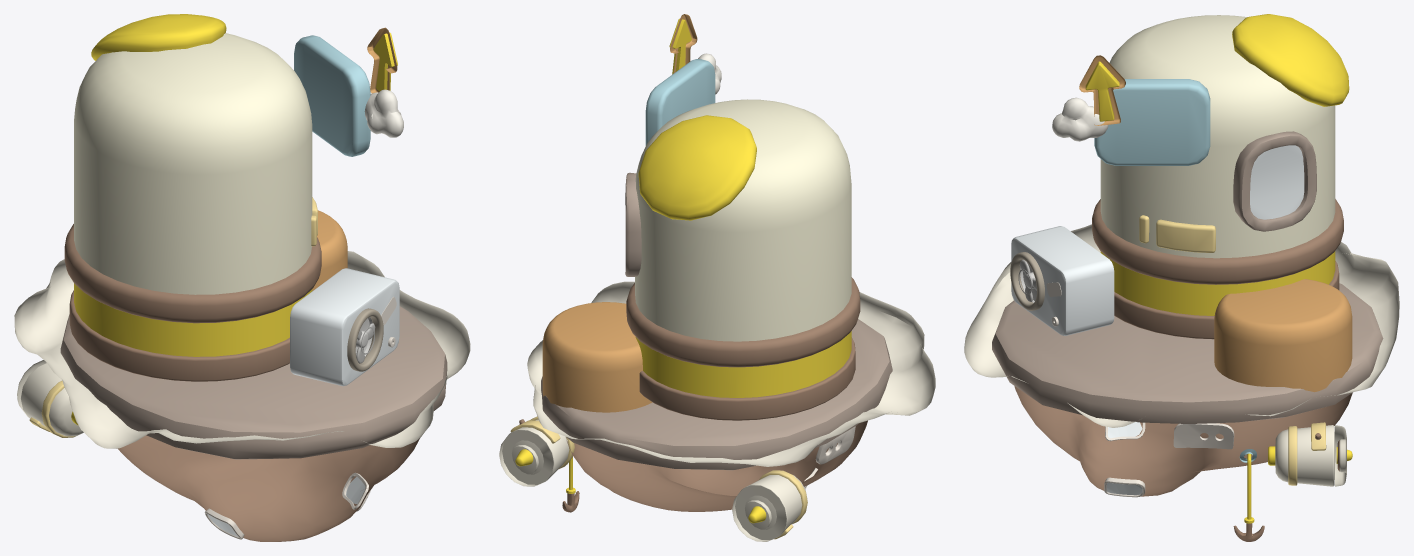
File: 1_lever_yellow1.gltf
3 renders of one model, left to right at view 1: azimuth 30°, elevation 25°; view 2: azimuth 150°, elevation 25°; view 3: azimuth 270°, elevation 25°, orthographic. The views are drawn at different scales.
Parts seen in each view (by area): view 1: MB - 胶囊.1-OctDiffuse1.2_std, Retopo_立方体, Retopo_MeshBoolean_v1 (×2), Retopo_Group4093, MeshBoolean v1.1-OctDiffuse1.4_std, MB - 胶囊, MB - 胶囊.1-OctDiffuse1_std, 立方体, MB - 胶囊.5, 圆柱.1, MB - 胶囊.2, Retopo_Bubble_Cloud_2 (+5 smaller); view 2: MB - 胶囊.1-OctDiffuse1.2_std, Retopo_MeshBoolean_v1 (×2), Retopo_立方体, MB - 胶囊.2, Retopo_Group4093, MB - 胶囊, MB - 胶囊.1-OctDiffuse1_std, MB - 胶囊.5, 圆柱.2-OctDiffuse1.9_std (×2), 立方体, 圆柱.1 (×2), Retopo_挤压_1 (+2 smaller); view 3: MB - 胶囊.1-OctDiffuse1.2_std, Retopo_立方体, Retopo_MeshBoolean_v1 (×2), MB - 胶囊.2, 立方体, Retopo_Group4093, MeshBoolean v1.1-OctDiffuse1.4_std, MB - 胶囊, MB - 胶囊.1-OctDiffuse1_std, 挤压 (×2), Retopo_挤压_1, MB - 胶囊.5 (+10 smaller).
Part boxes in pixels (x1,y1,x2,y2): MB - 胶囊.1-OctDiffuse1.2_std: [74, 33, 312, 294]; Retopo_立方体: [60, 306, 447, 459]; Retopo_MeshBoolean_v1 (×2): [91, 14, 419, 541]; Retopo_Group4093: [14, 251, 470, 448]; MeshBoolean v1.1-OctDiffuse1.4_std: [290, 268, 399, 386]; MB - 胶囊: [64, 224, 321, 323]; MB - 胶囊.1-OctDiffuse1_std: [74, 283, 312, 356]; 立方体: [294, 35, 370, 156]; MB - 胶囊.5: [69, 290, 289, 381]; 圆柱.1: [21, 363, 83, 436]; MB - 胶囊.2: [312, 210, 347, 290]; Retopo_Bubble_Cloud_2: [364, 89, 403, 137]; MB - 胶囊.1-OctDiffuse1.2_std: [635, 99, 851, 341]; Retopo_MeshBoolean_v1 (×2): [566, 115, 867, 511]; Retopo_立方体: [541, 319, 892, 470]; MB - 胶囊.2: [542, 302, 652, 412]; Retopo_Group4093: [527, 281, 935, 466]; MB - 胶囊: [626, 277, 860, 367]; MB - 胶囊.1-OctDiffuse1_std: [635, 331, 851, 397]; MB - 胶囊.5: [639, 337, 855, 420]; 圆柱.2-OctDiffuse1.9_std (×2): [499, 430, 786, 541]; 立方体: [645, 59, 715, 145]; 圆柱.1 (×2): [511, 419, 806, 535]; Retopo_挤压_1: [625, 172, 641, 276]; MB - 胶囊.1-OctDiffuse1.2_std: [1100, 15, 1335, 258]; Retopo_立方体: [992, 283, 1383, 423]; Retopo_MeshBoolean_v1 (×2): [1014, 14, 1352, 496]; MB - 胶囊.2: [1214, 279, 1352, 392]; 立方体: [1094, 79, 1210, 165]; Retopo_Group4093: [964, 224, 1399, 427]; MeshBoolean v1.1-OctDiffuse1.4_std: [1011, 226, 1114, 335]; MB - 胶囊: [1092, 199, 1343, 284]; MB - 胶囊.1-OctDiffuse1_std: [1100, 251, 1335, 315]; 挤压 (×2): [1106, 145, 1304, 495]; Retopo_挤压_1: [1233, 131, 1316, 231]; MB - 胶囊.5: [1114, 261, 1339, 339].
Size of the model in its own units: 33.96 by 42.73 by 36.3.
